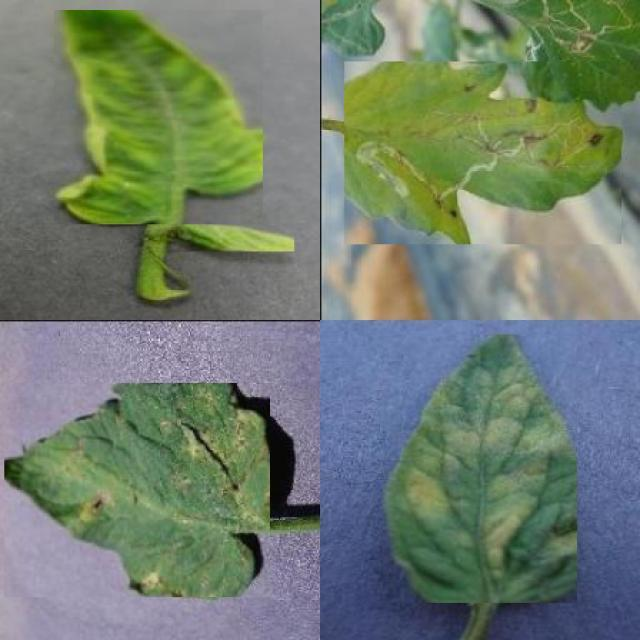Leaf Miner: (344, 62, 622, 245)
Leaf Mold: (383, 334, 577, 603)
Septoria: (4, 382, 270, 598)
Yellow Leaf Curl Virus: (55, 10, 264, 224), (179, 225, 294, 252)
